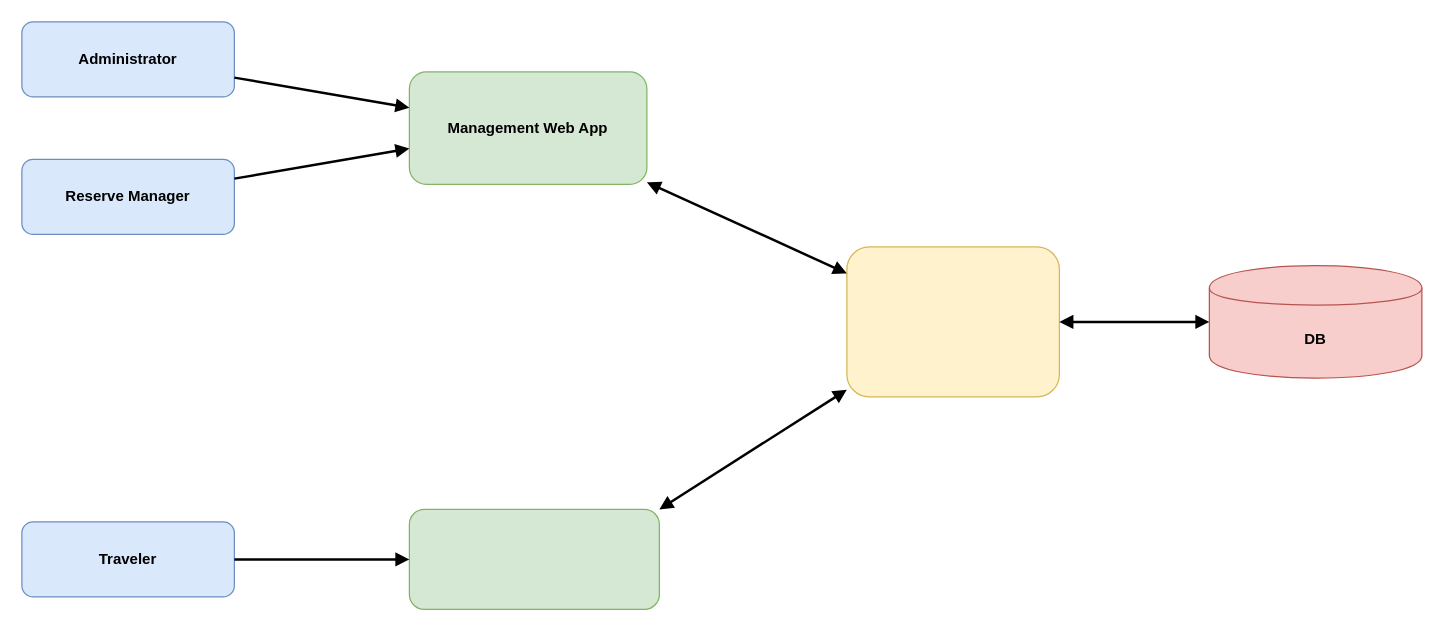
The diagram is 1444 pixels wide and 631 high, and some of its shapes have lost their labels. Here are the shapes that lost their labels. From the top down, the centre of each, then its label:
pixel 952 321: Backend Server
pixel 533 558: Android App
